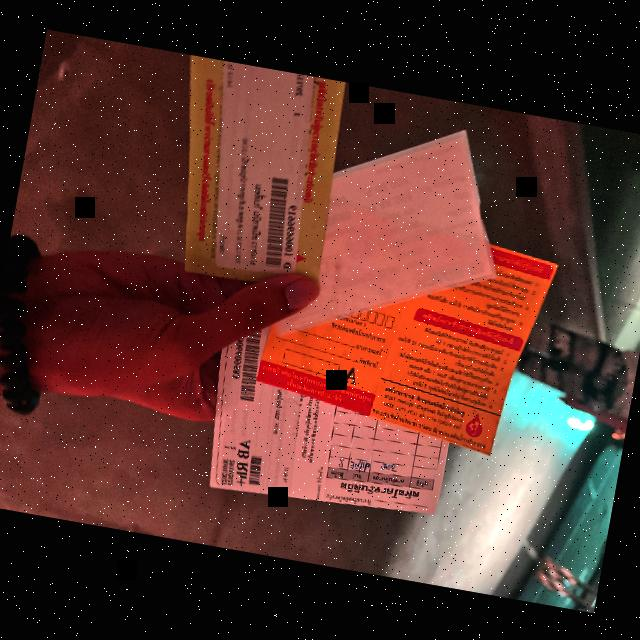scrap_paper: (247, 169, 577, 473), (256, 96, 529, 366), (192, 296, 469, 536), (138, 51, 354, 311)
